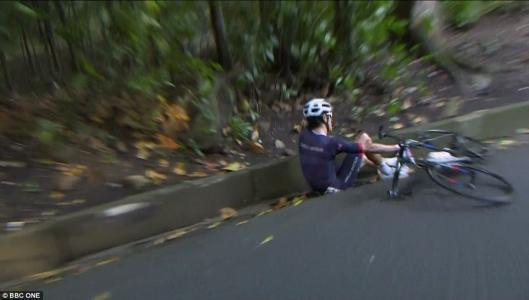Fall-Detected: (291, 91, 416, 196)
